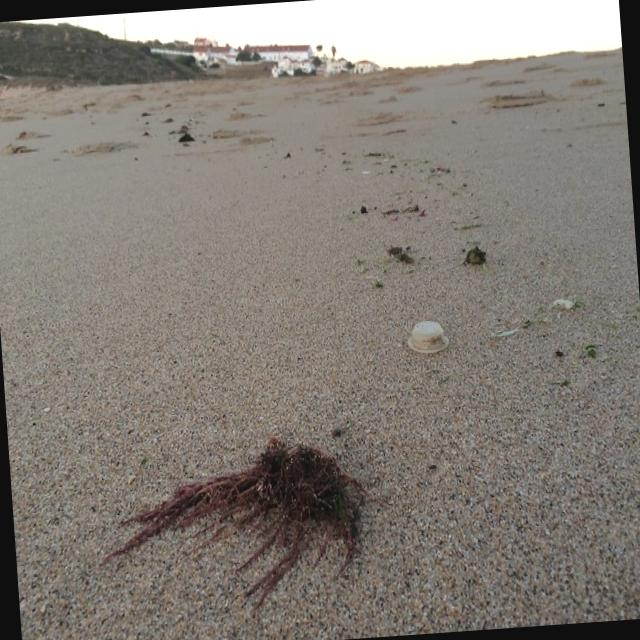Trash: (403, 315, 452, 356)
